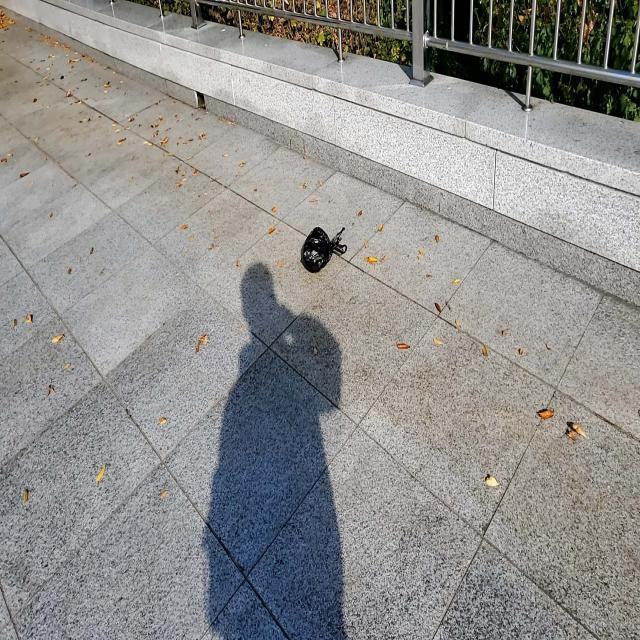Trashbag: (289, 210, 360, 283)
